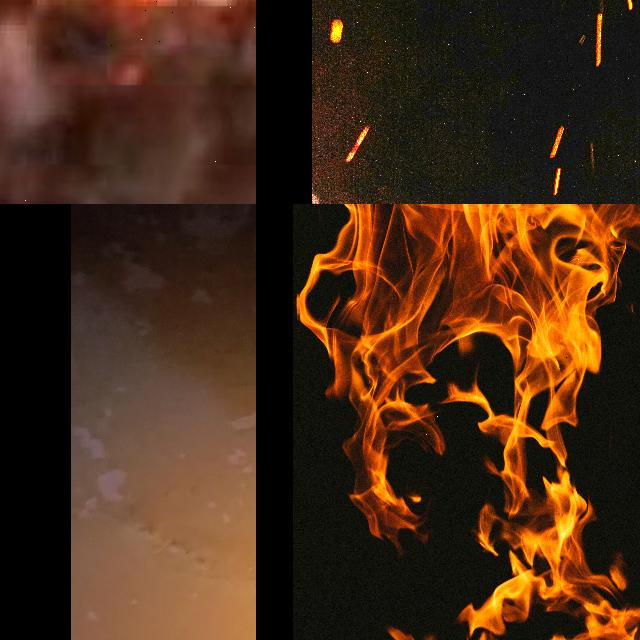fire: (299, 204, 640, 640)
smoke: (0, 22, 256, 204)
